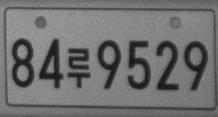2: (155, 39, 179, 91)
4: (38, 38, 63, 89)
5: (126, 39, 151, 89)
8: (10, 37, 35, 88)
9: (183, 40, 208, 91), (97, 39, 121, 89)
루: (66, 47, 90, 88)
